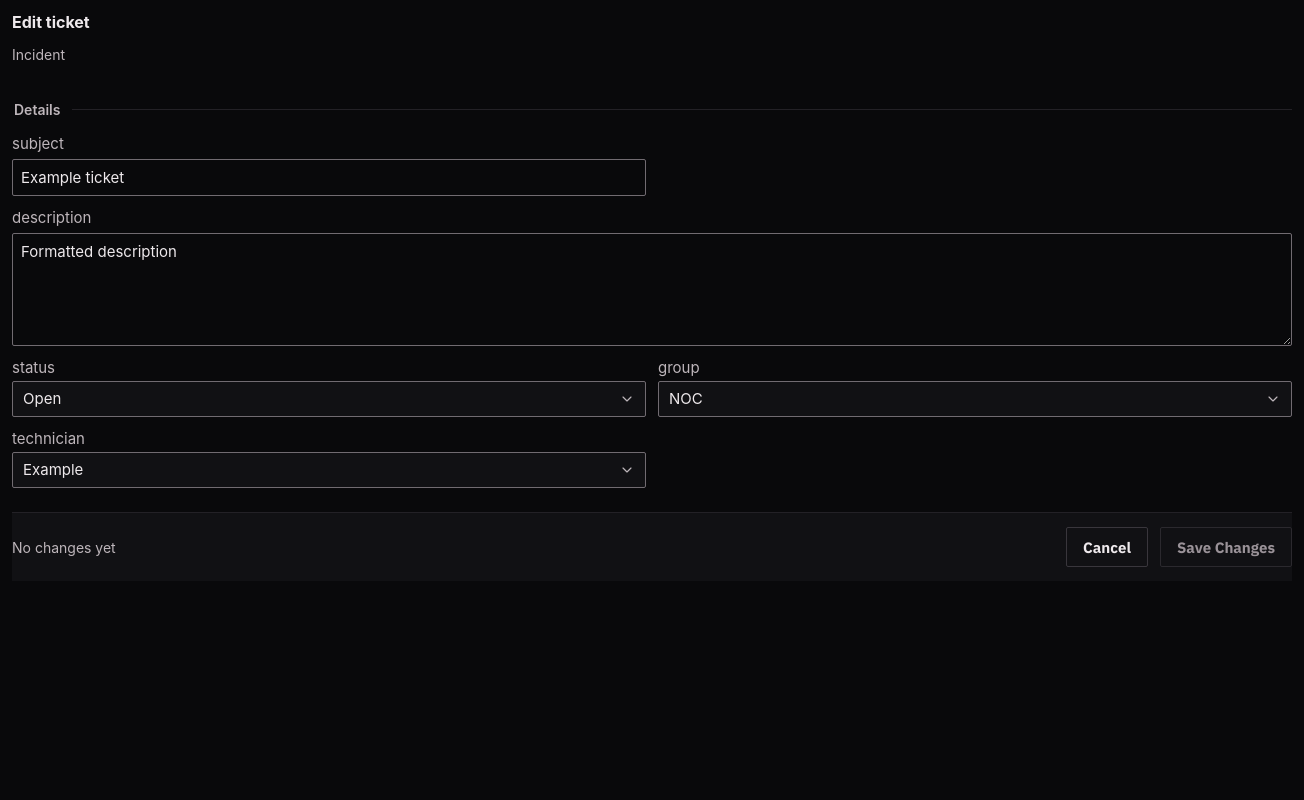
marks each changed field with its saved value and undoes it in place
Expected: the text "No changes yet" is shown, [12,538,116,556]
Expected: the button "Save Changes" is disabled, [1160,527,1292,567]
Click the dropdown named "status" at (42,398), box [12,381,646,417]
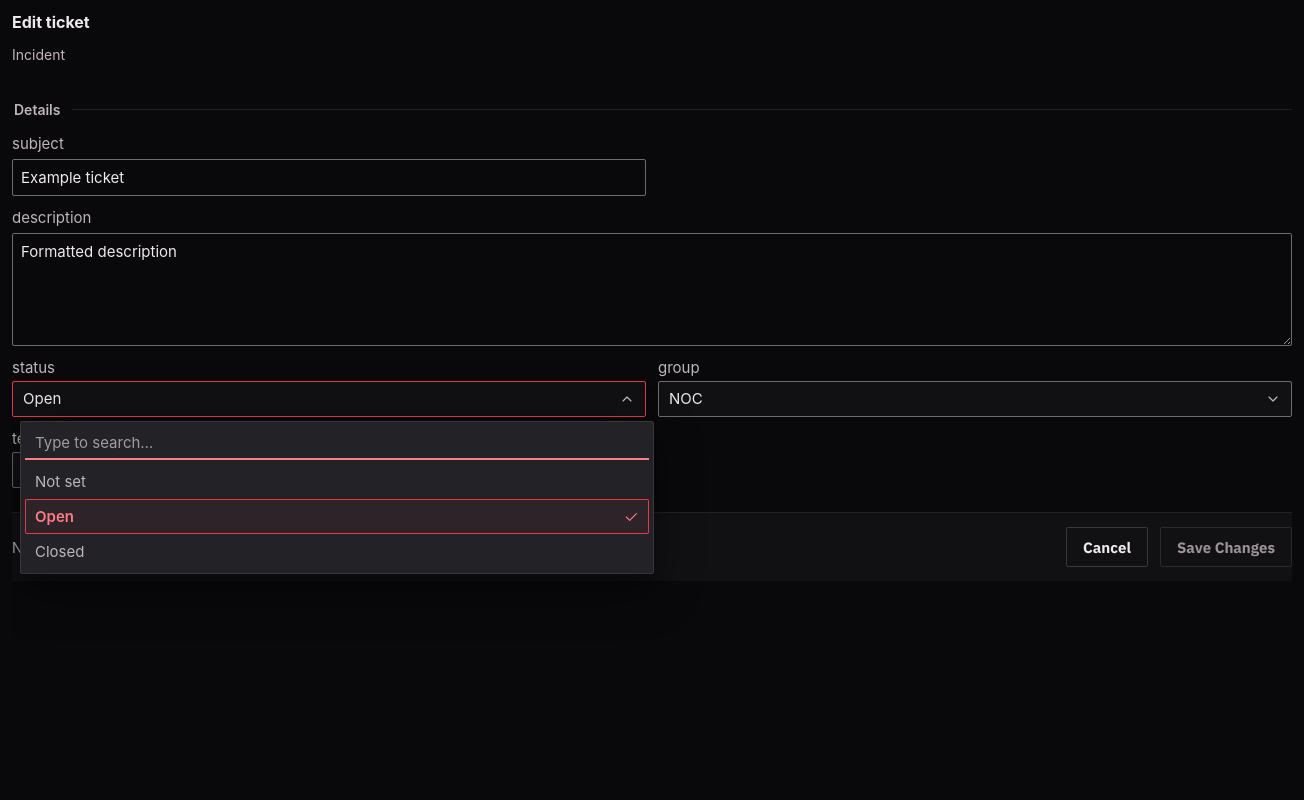
Click the option "Closed" at (60,552), box [35,542,84,561]
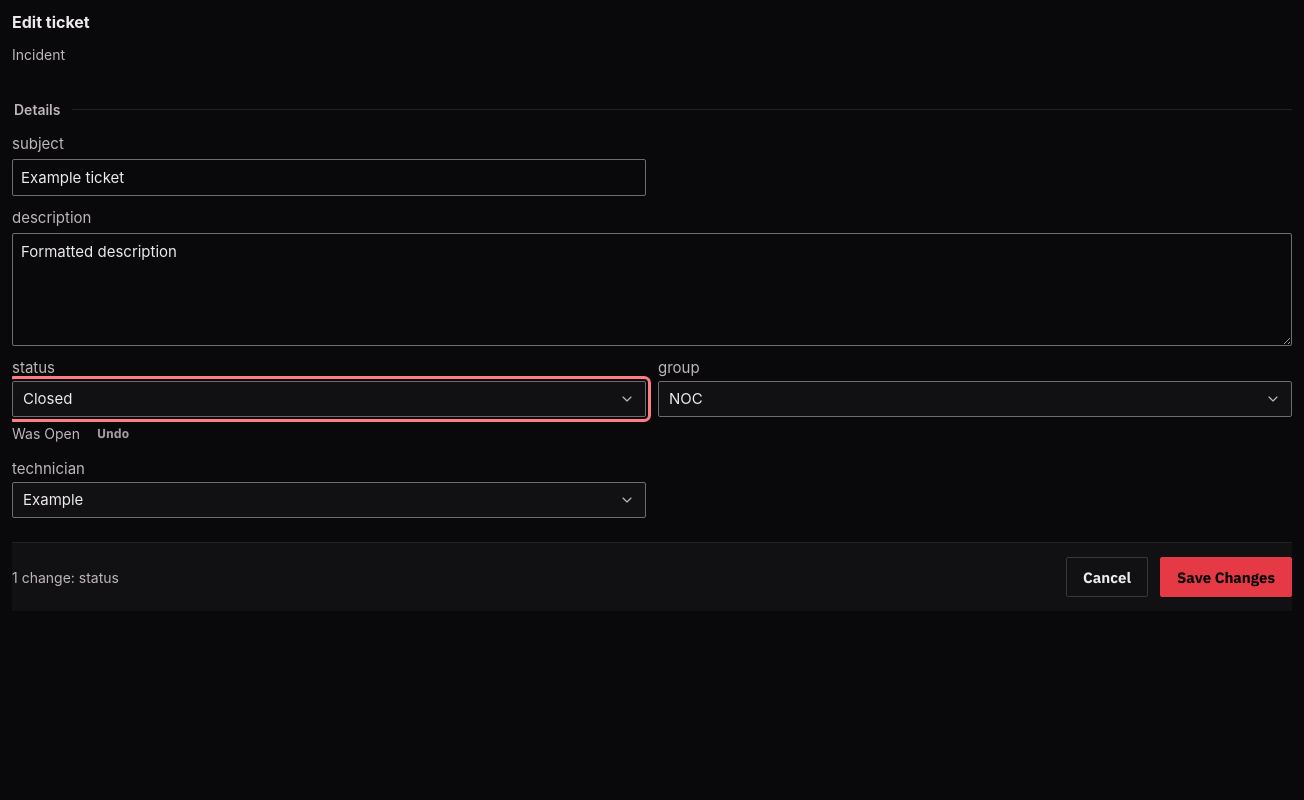
Expected: the text "1 change: status" is shown, [12,568,119,586]
Expected: the text "Was Open" is shown, [12,424,80,442]
Expected: the button "Save Changes" is enabled, [1160,557,1292,597]
Click the button with aria-label "Undo status" at (113,433), box [88,419,138,447]
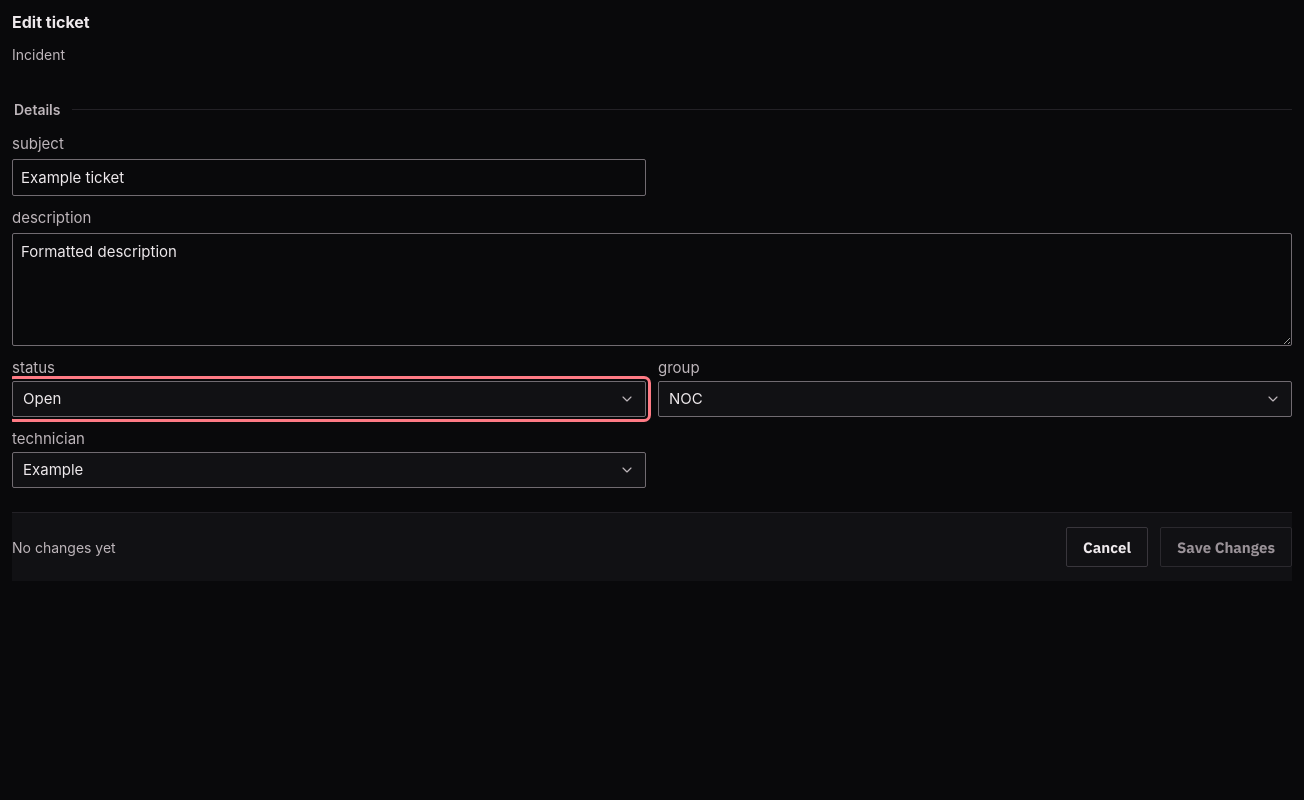
Expected: the dropdown named "status" reads "Open", [12,381,646,417]
Expected: the text "Was Open" is gone
Expected: the text "No changes yet" is shown, [12,538,116,556]
